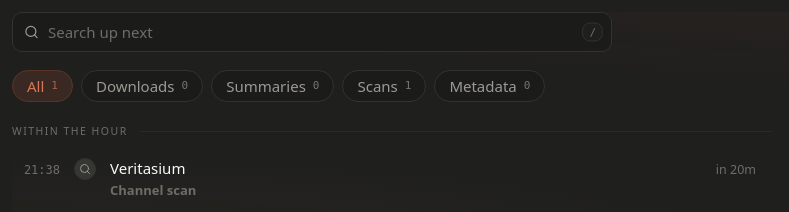
Test: UpNext filters › filters the schedule by its own kind
Expected: the text "Veritasium" is shown, 110,158 -> 185,178
Click the button "Metadata 0": click(490, 86) 434,70 -> 545,102
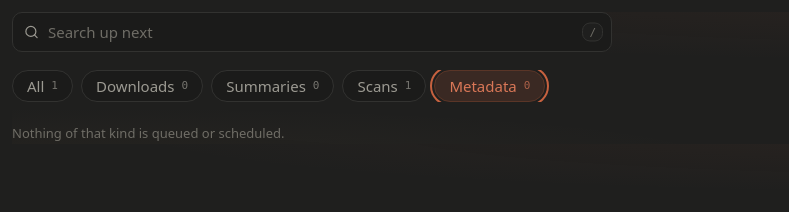
Expected: the text "Veritasium" is gone
Click the button "Scans 1": click(384, 86) 342,70 -> 426,102
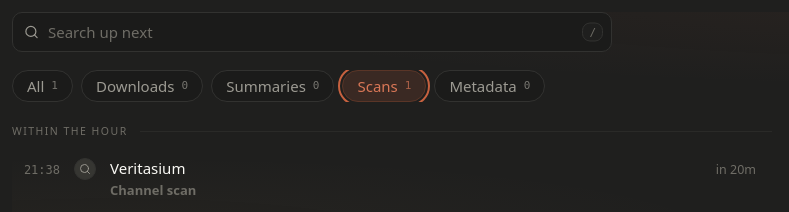
Expected: the text "Veritasium" is shown, 110,158 -> 185,178
